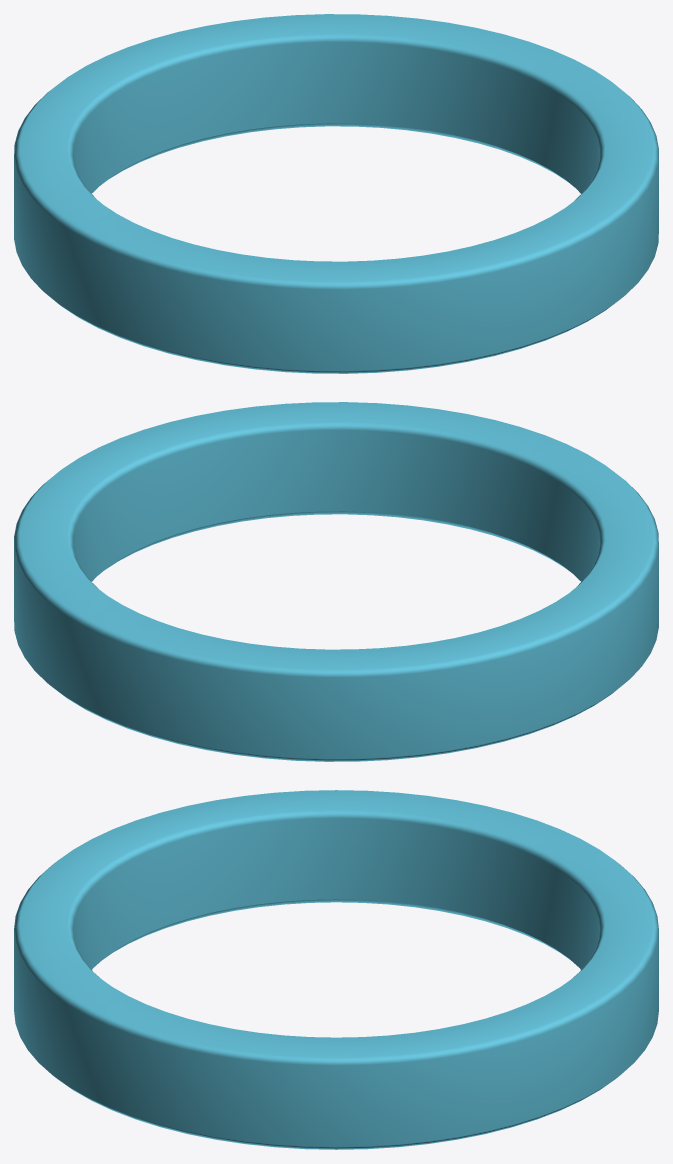
3 renders of one model, top to bottom at view 1: azimuth 30°, elevation 25°; view 2: azimuth 150°, elevation 25°; view 3: azimuth 270°, elevation 25°, orthographic.
Parts seen in each view (by area): view 1: seal_body; view 2: seal_body; view 3: seal_body.
Boxes of the visible parts, left/top/right/bottom form: seal_body: left=14, top=14, right=658, bottom=373; seal_body: left=14, top=402, right=658, bottom=761; seal_body: left=14, top=790, right=658, bottom=1149.
Bounding box in the file's own units: 0.1207 × 0.0191 × 0.1207.
